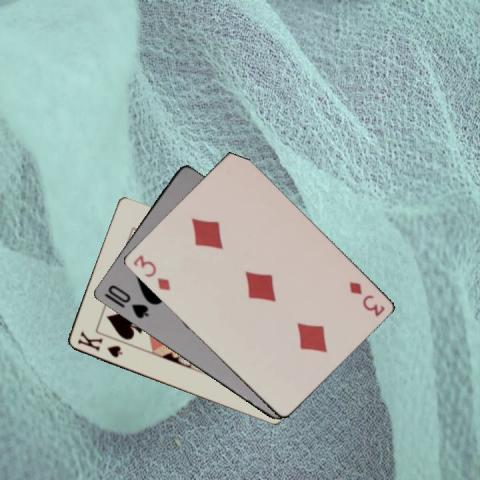10s: (104, 282, 149, 321)
3d: (129, 251, 172, 292), (345, 279, 386, 318)
Ks: (74, 329, 124, 359)
